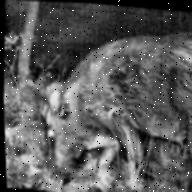boar: (25, 14, 192, 192)
